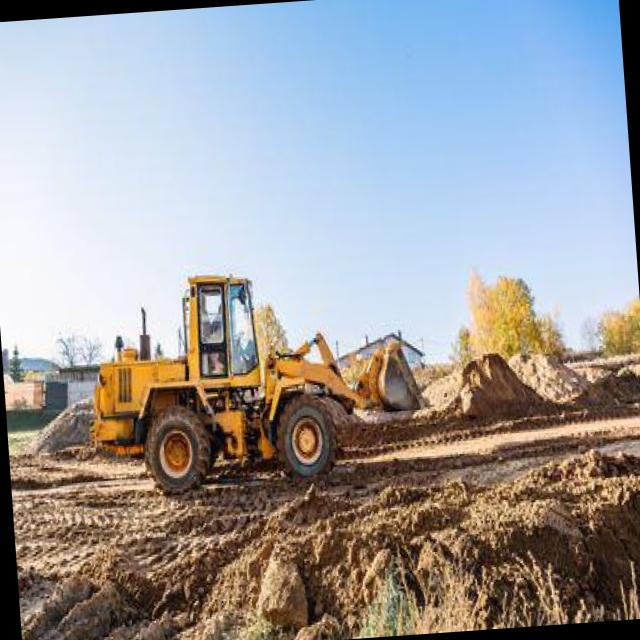pala cargadora: (82, 248, 436, 502)
